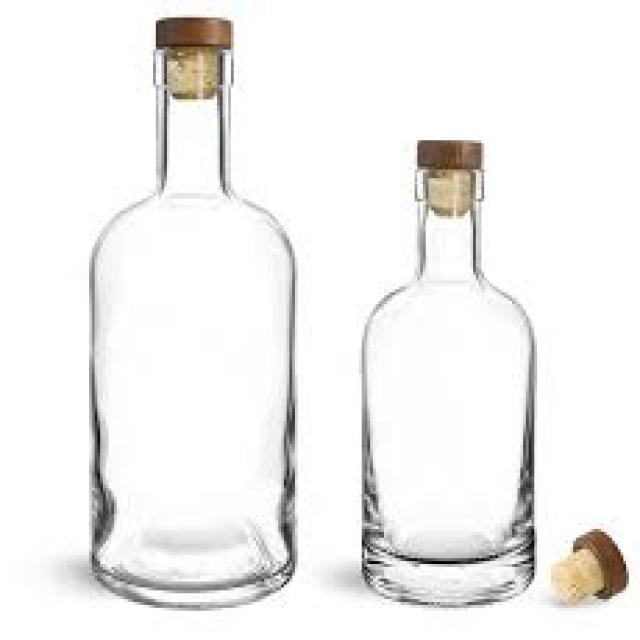glass: (95, 44, 292, 602), (359, 167, 531, 605)
plastic: (551, 529, 623, 602), (153, 15, 228, 47), (412, 141, 479, 173)
